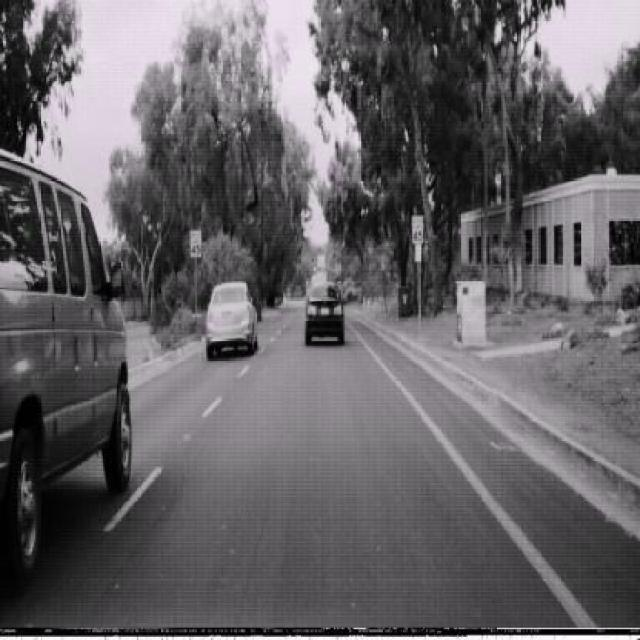speedLimit45: (189, 228, 202, 258), (411, 213, 423, 244)
